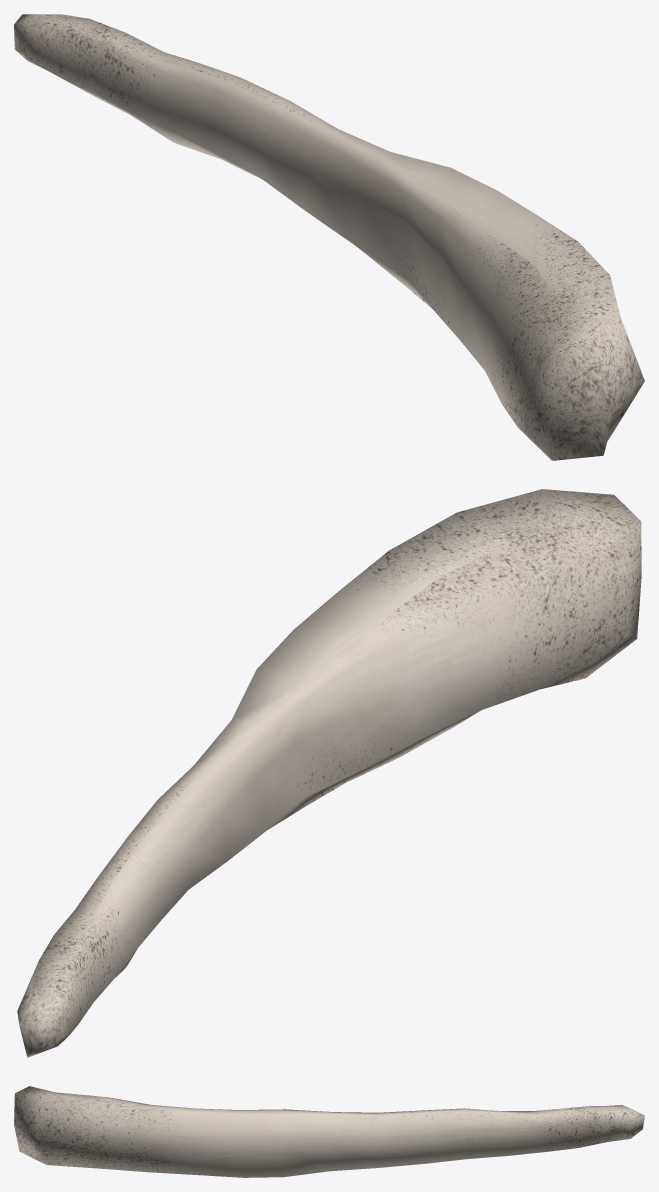
File: bone-door-SINGLEpiece.fbx
3 views of the same model, one above another, from view 1: azimuth 30°, elevation 25°; view 2: azimuth 150°, elevation 25°; view 3: azimuth 270°, elevation 25° (orthographic). The views are drawn at different scales.
Parts seen in each view (by area): view 1: Cube.001; view 2: Cube.001; view 3: Cube.001.
Part boxes in pixels (<box>): Cube.001: <box>14,14,644,460</box>; Cube.001: <box>17,489,641,1057</box>; Cube.001: <box>14,1086,644,1177</box>.
Bounding box in the file's own units: 62.18 × 60.08 × 417.
